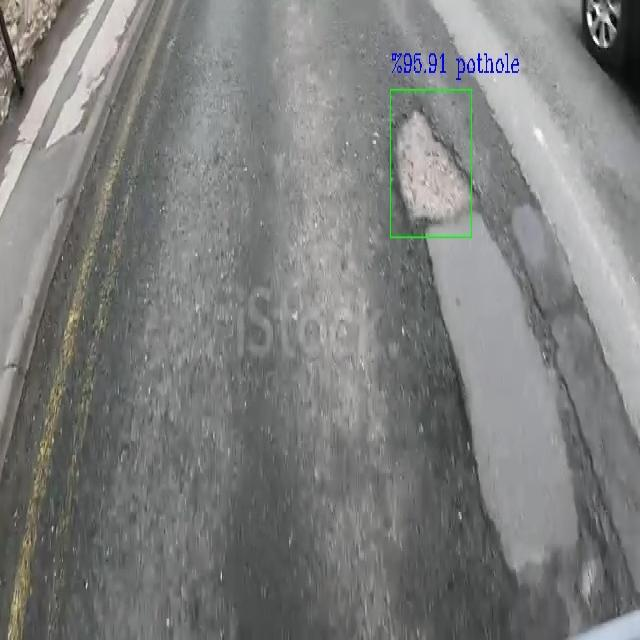pothole: (392, 93, 468, 235)
